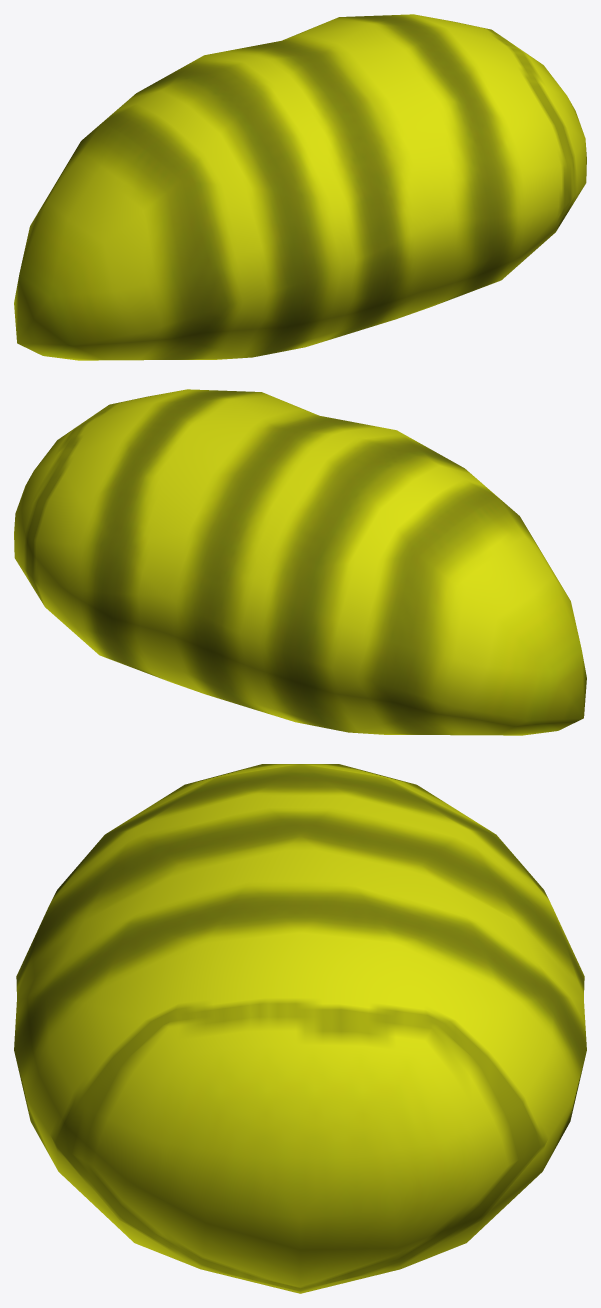
Rendered from bee3.obj.
3 renders of one model, top to bottom at view 1: azimuth 30°, elevation 25°; view 2: azimuth 150°, elevation 25°; view 3: azimuth 270°, elevation 25°, orthographic. The views are drawn at different scales.
Parts seen in each view (by area): view 1: ColobotMesh_1_ColobotMesh_; view 2: ColobotMesh_1_ColobotMesh_; view 3: ColobotMesh_1_ColobotMesh_.
Part boxes in pixels (x1=…): ColobotMesh_1_ColobotMesh_: x1=14, y1=14, x2=586, y2=360; ColobotMesh_1_ColobotMesh_: x1=14, y1=389, x2=586, y2=735; ColobotMesh_1_ColobotMesh_: x1=14, y1=764, x2=586, y2=1293.
Bounding box in the file's own units: 4.71 × 2.16 × 2.86.
